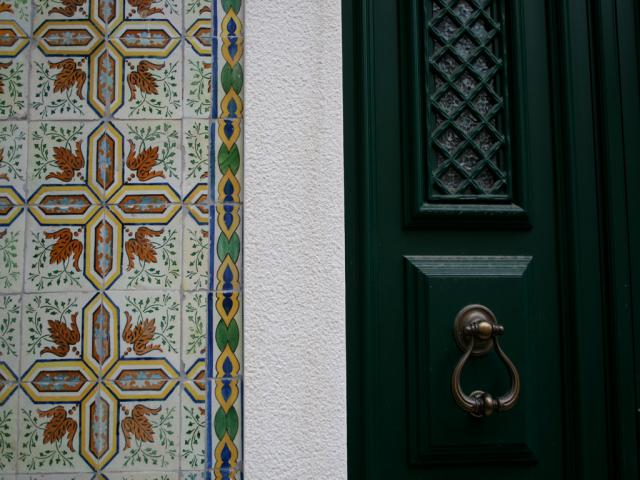Door-handle: (451, 305, 523, 420)
